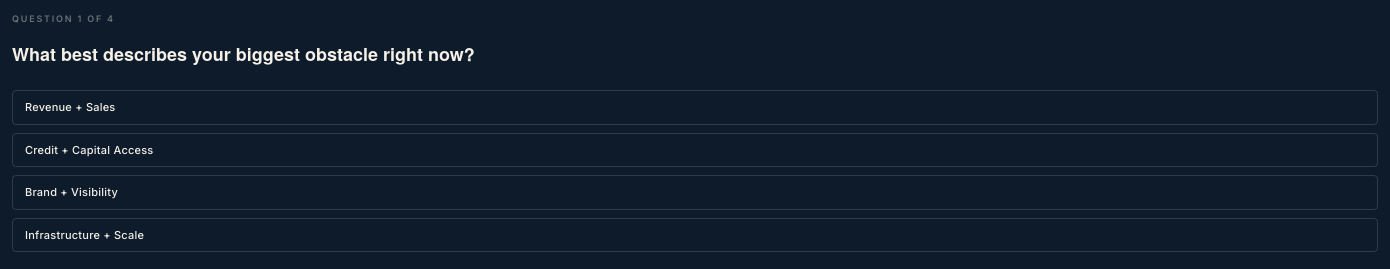
Scenario: ARMQuiz › advances to question 2 after a Q1 option is clicked
Click the button "Revenue + Sales".
click(70, 107)  # box [12, 90, 1378, 125]
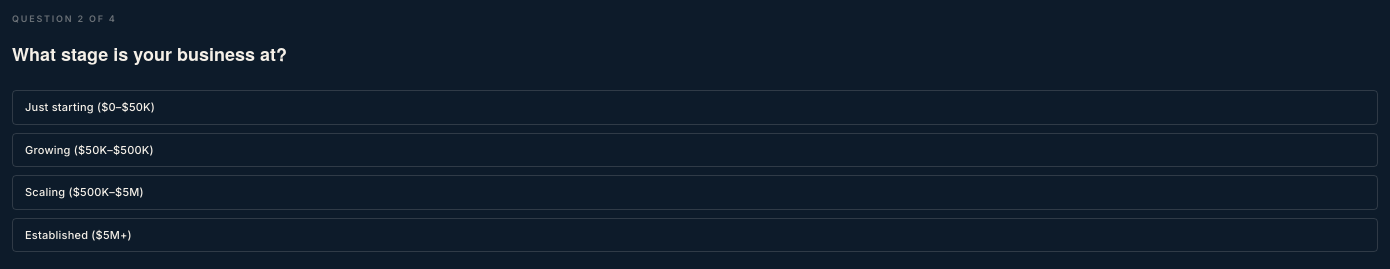
Expected: the text "QUESTION 2 OF 4" is shown, [12, 13, 117, 24]
Expected: the text "What stage is your business at?" is shown, [12, 40, 287, 66]
